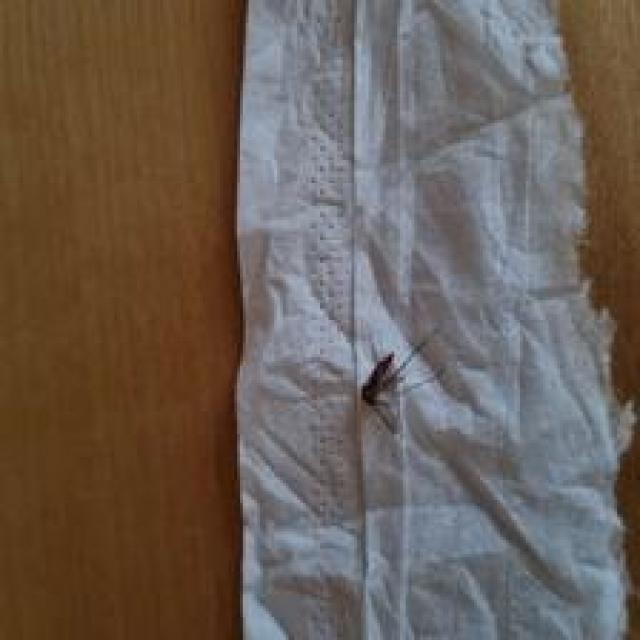Culex: (358, 332, 436, 434)
